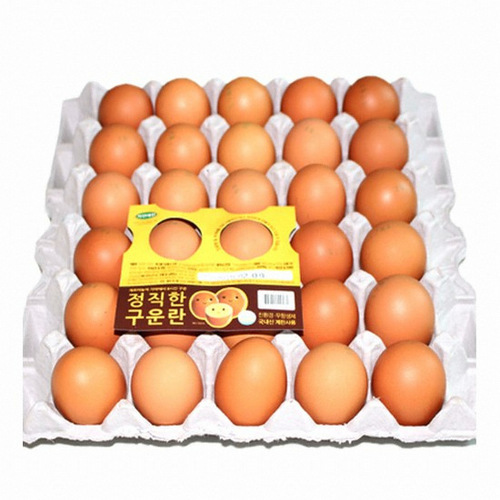egg: (48, 72, 449, 429)
